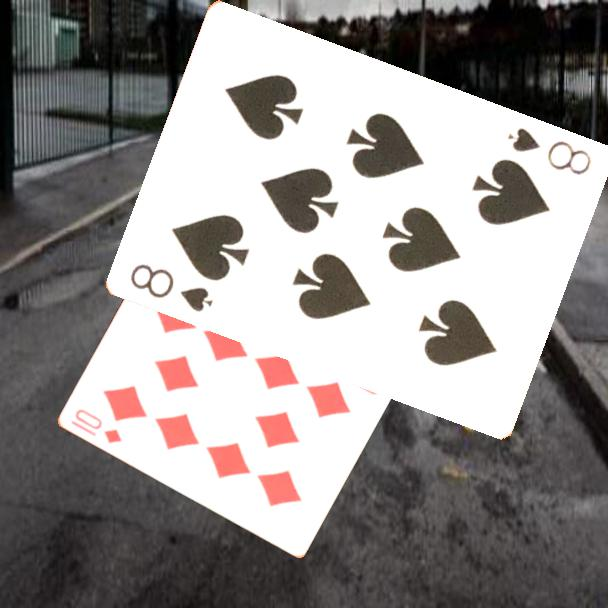d10: (71, 405, 124, 446)
s08: (127, 259, 216, 315), (505, 124, 595, 178)
